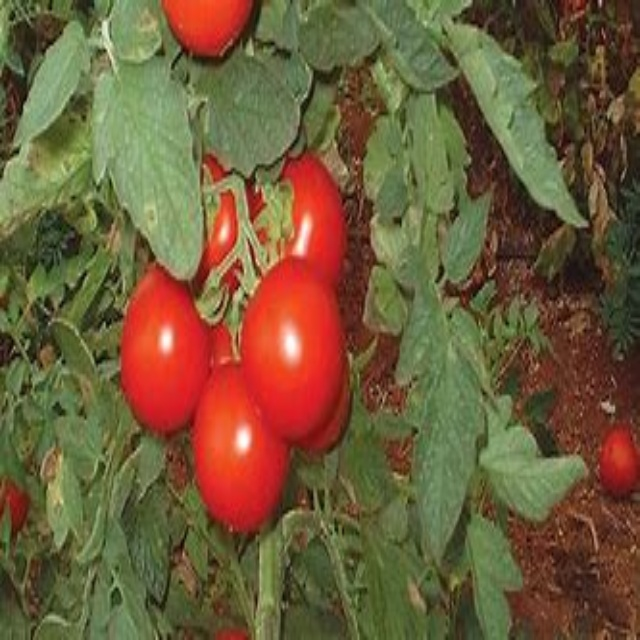tomato: (103, 280, 227, 425), (194, 367, 296, 533), (244, 164, 359, 293), (258, 267, 343, 428), (594, 426, 639, 503)
